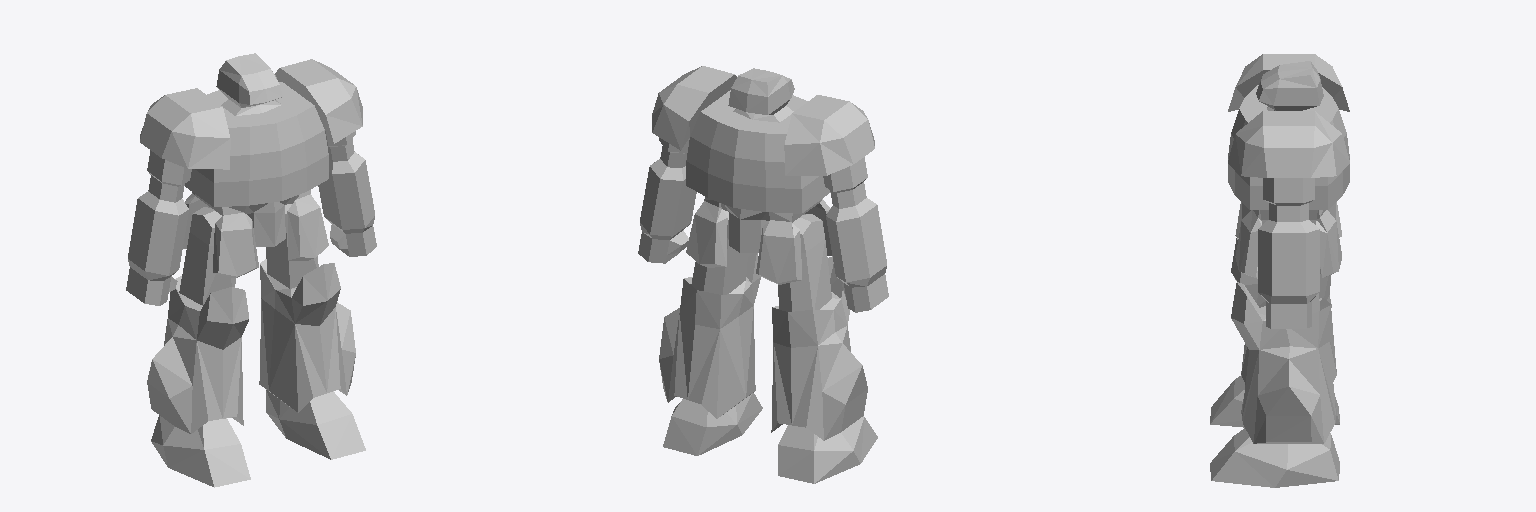
Rendered from btr_buruburu.obj.
3 views of the same model, side by side, from view 1: azimuth 30°, elevation 25°; view 2: azimuth 150°, elevation 25°; view 3: azimuth 270°, elevation 25° (orthographic).
Parts seen in each view (by area): view 1: buruburu; view 2: buruburu; view 3: buruburu.
Part boxes in pixels (x1,y1,x2,y2): buruburu: (126,53,376,487); buruburu: (638,66,888,483); buruburu: (1210,54,1349,487).
Size of the model in its own units: 0.4655 by 0.7186 by 0.2434.